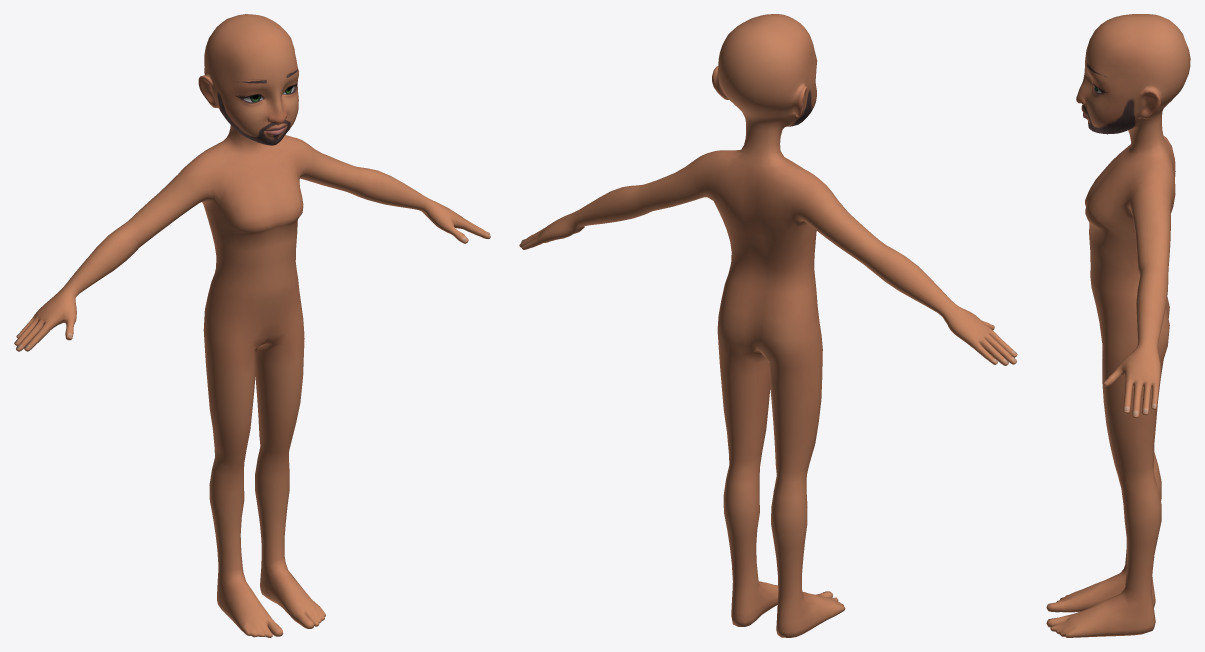
The model's file is frame_0063.glb.
The picture shows the model from 3 angles, left to right: view 1: azimuth 30°, elevation 25°; view 2: azimuth 150°, elevation 25°; view 3: azimuth 270°, elevation 25°; orthographic projection. The views are drawn at different scales.
Visible parts, largest first — view 1: frame_0063_head_geo; view 2: frame_0063_head_geo; view 3: frame_0063_head_geo.
Boxes of the visible parts, x1=… form: frame_0063_head_geo: x1=14, y1=14, x2=490, y2=637; frame_0063_head_geo: x1=519, y1=14, x2=1017, y2=637; frame_0063_head_geo: x1=1046, y1=14, x2=1190, y2=637.
Size of the model in its own units: 1.28 by 1.5 by 0.3253.
3 materials, 3 textured.
